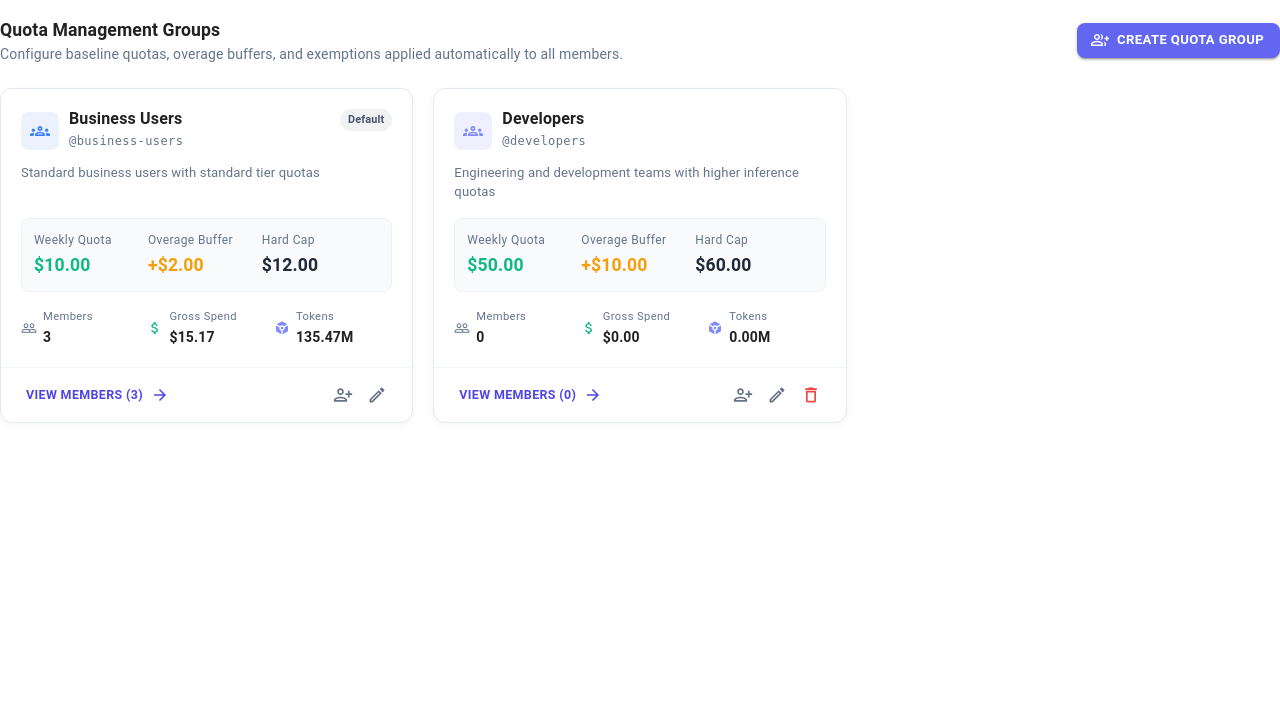
Test: GroupsTab Component › opens Assign Members dialog with reset custom quota option enabled by default
Click the button named "Assign Members to Business Users": (343, 395) top-left (328, 380), bottom-right (358, 410)
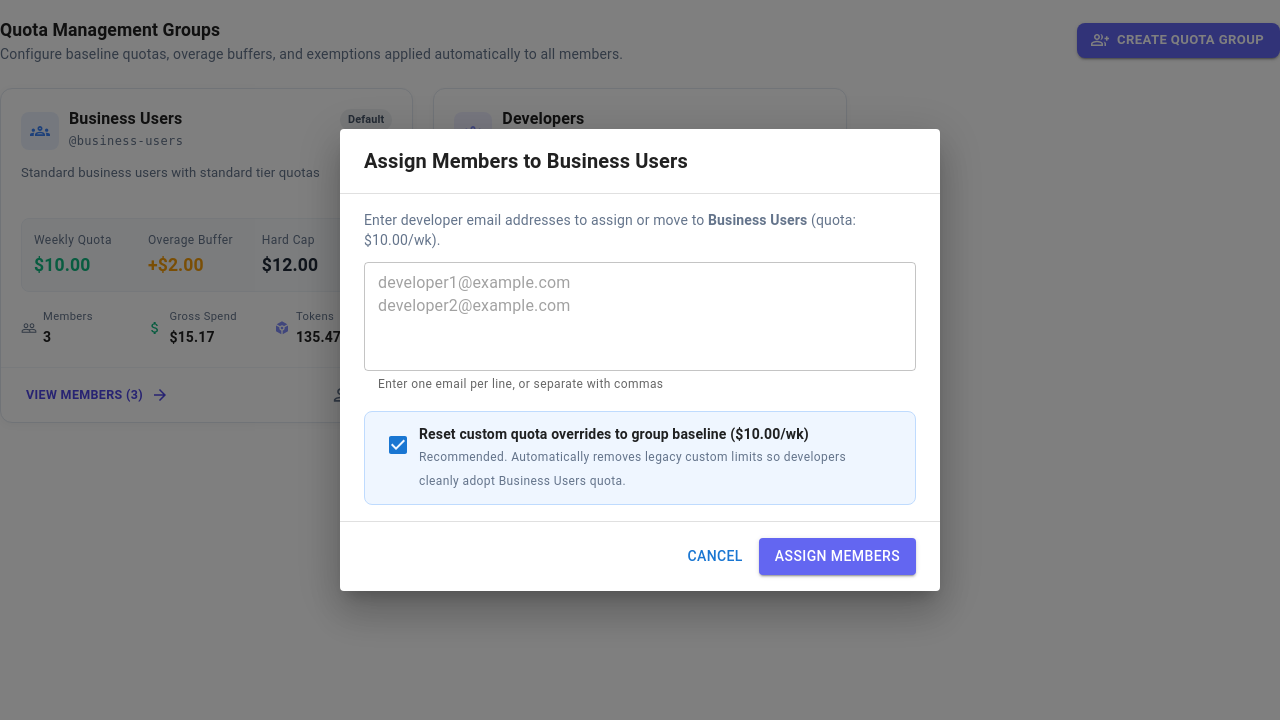
Expected: the heading "Assign Members to Business Users" is shown, top-left (364, 149), bottom-right (688, 173)
Expected: the text "Reset custom quota overrides to group baseline ($10.00/wk)" is shown, top-left (419, 426), bottom-right (809, 442)
Expected: the button "Assign Members" is shown, top-left (759, 538), bottom-right (916, 575)
